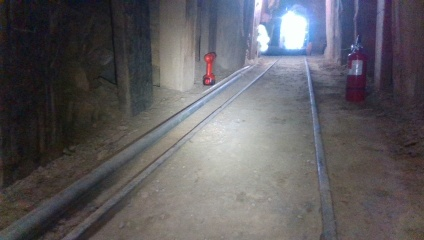drill: (203, 50, 217, 85)
fire_extinguisher: (342, 34, 370, 103)
manikin: (256, 12, 277, 57)
